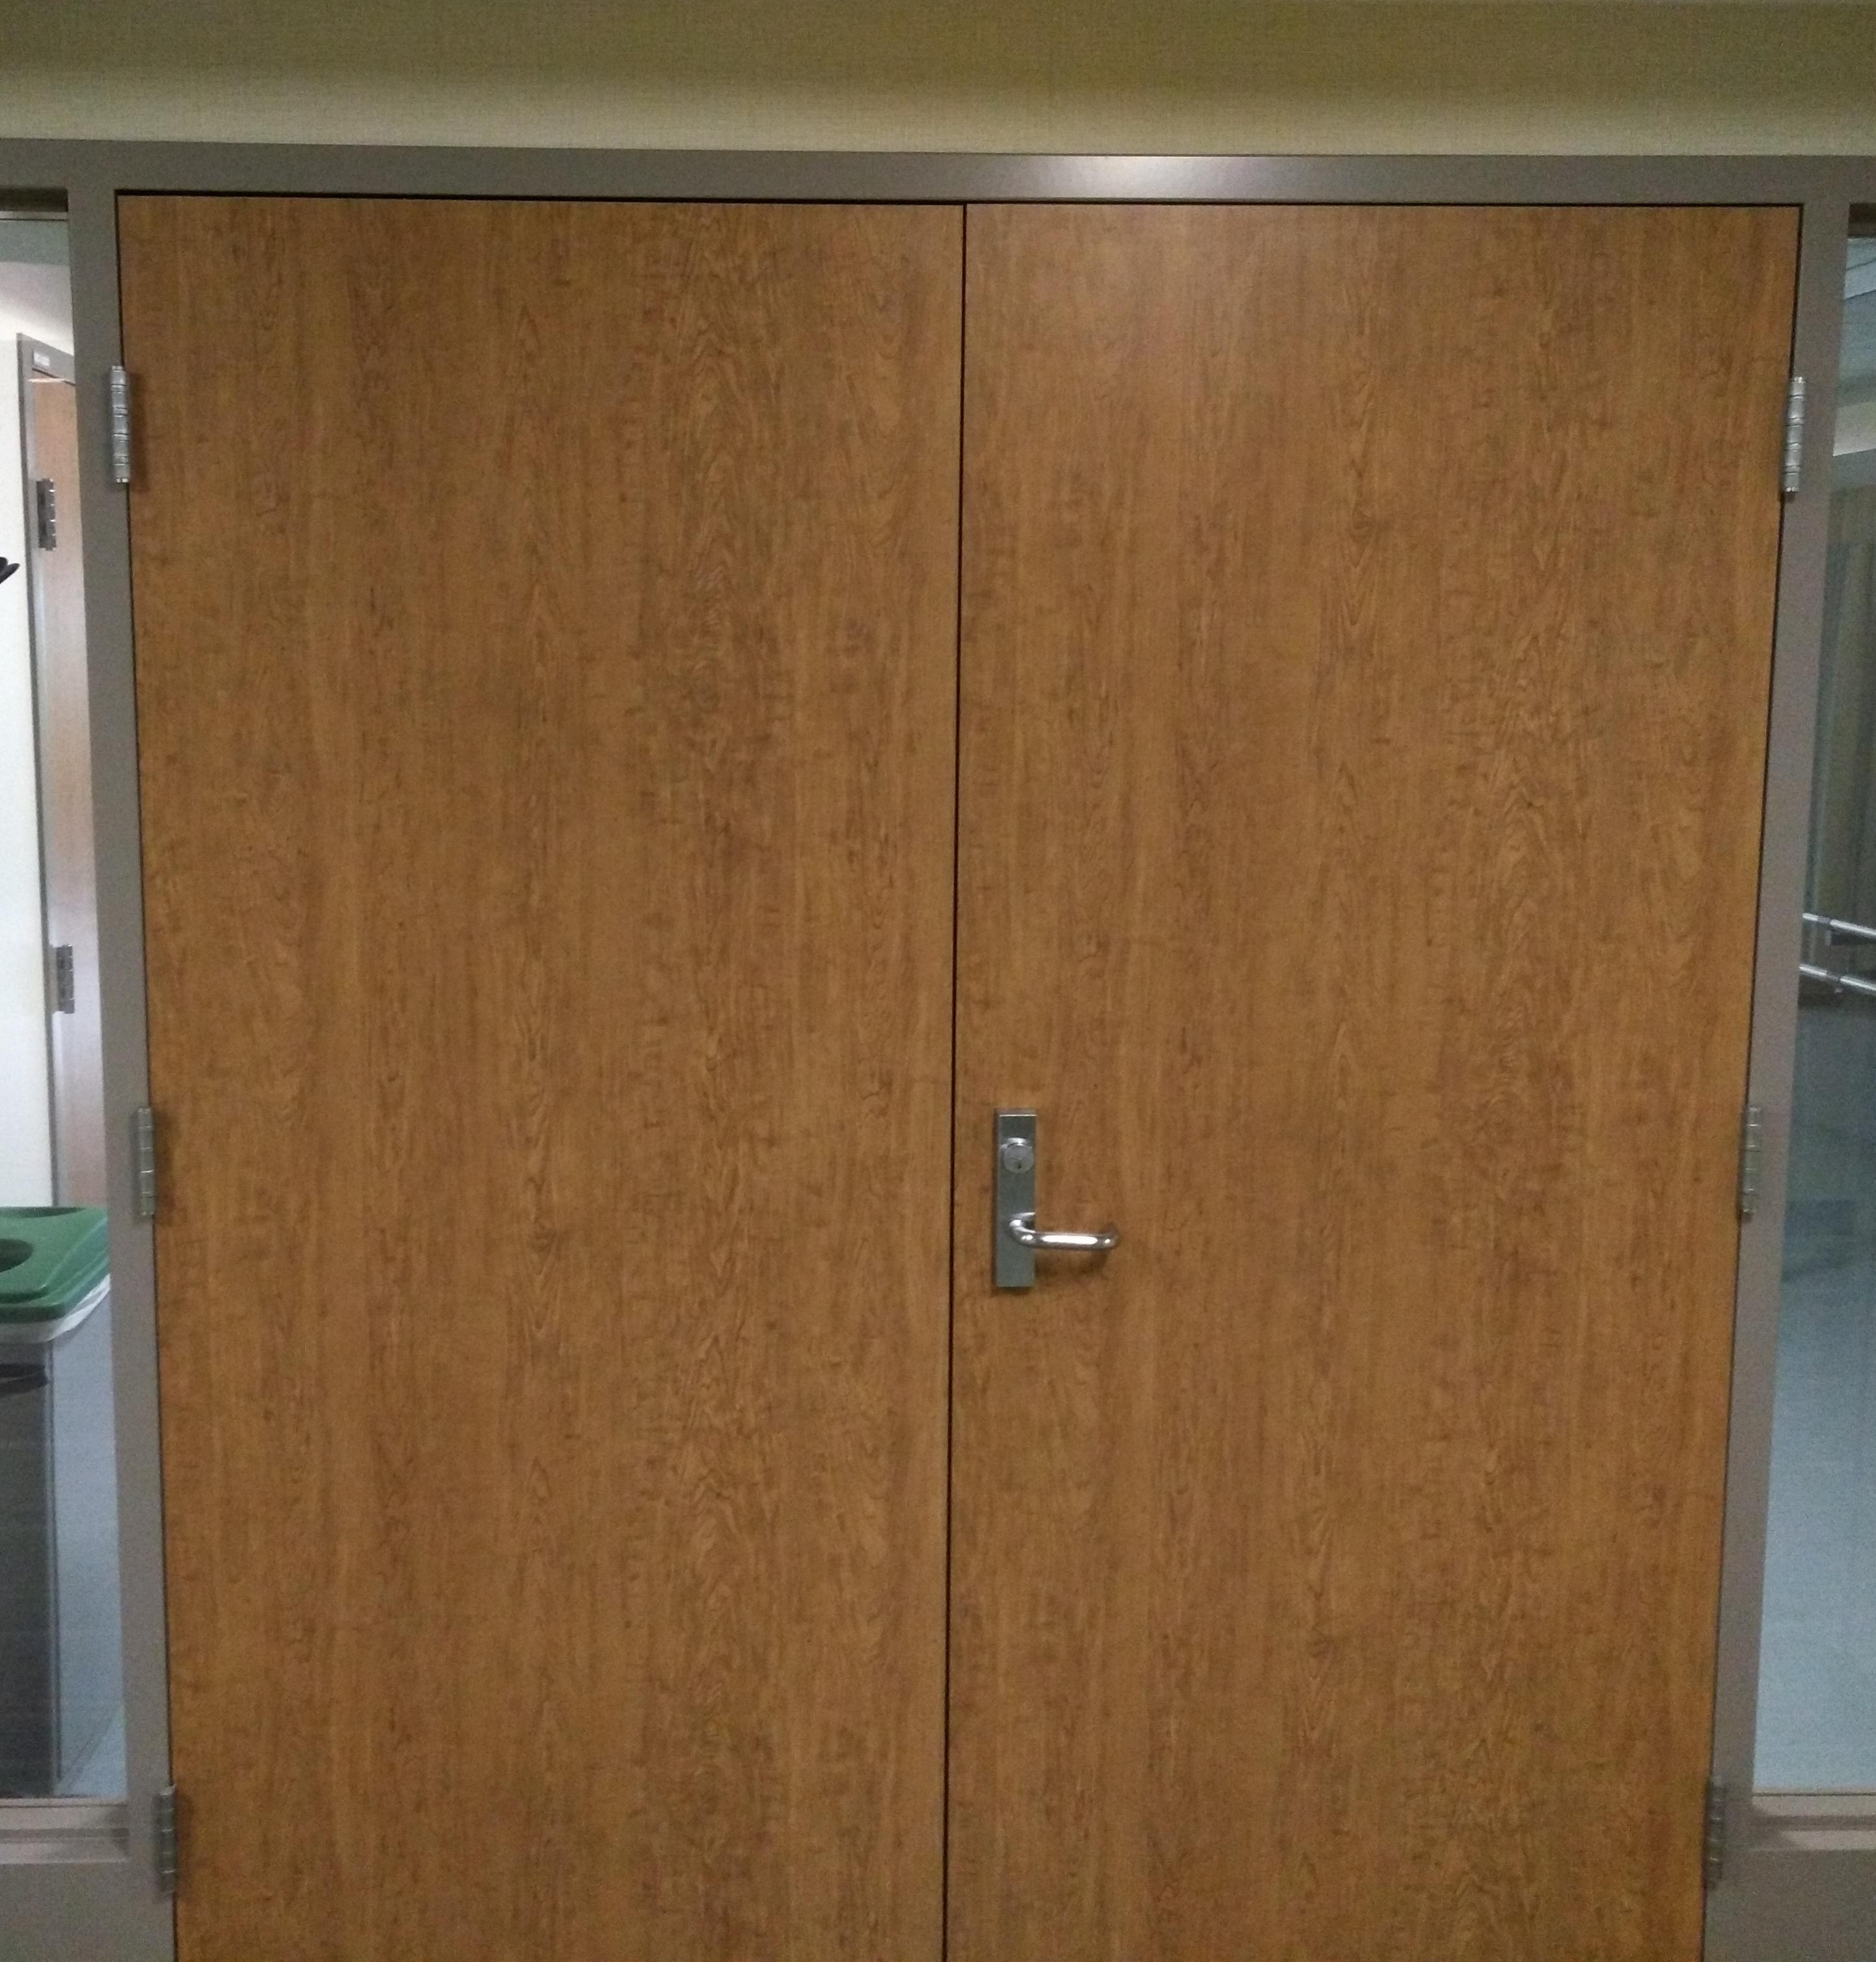door: (81, 166, 1750, 1943)
